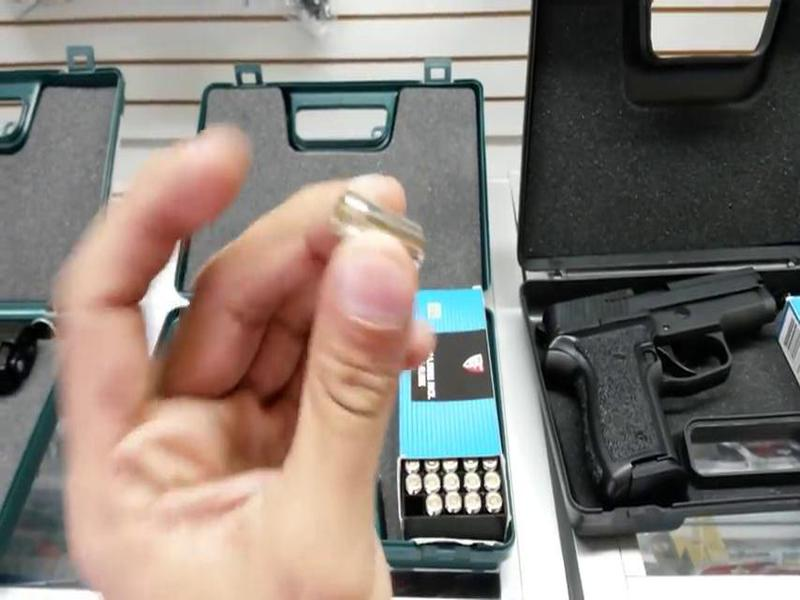Pistola: (544, 243, 784, 511)
